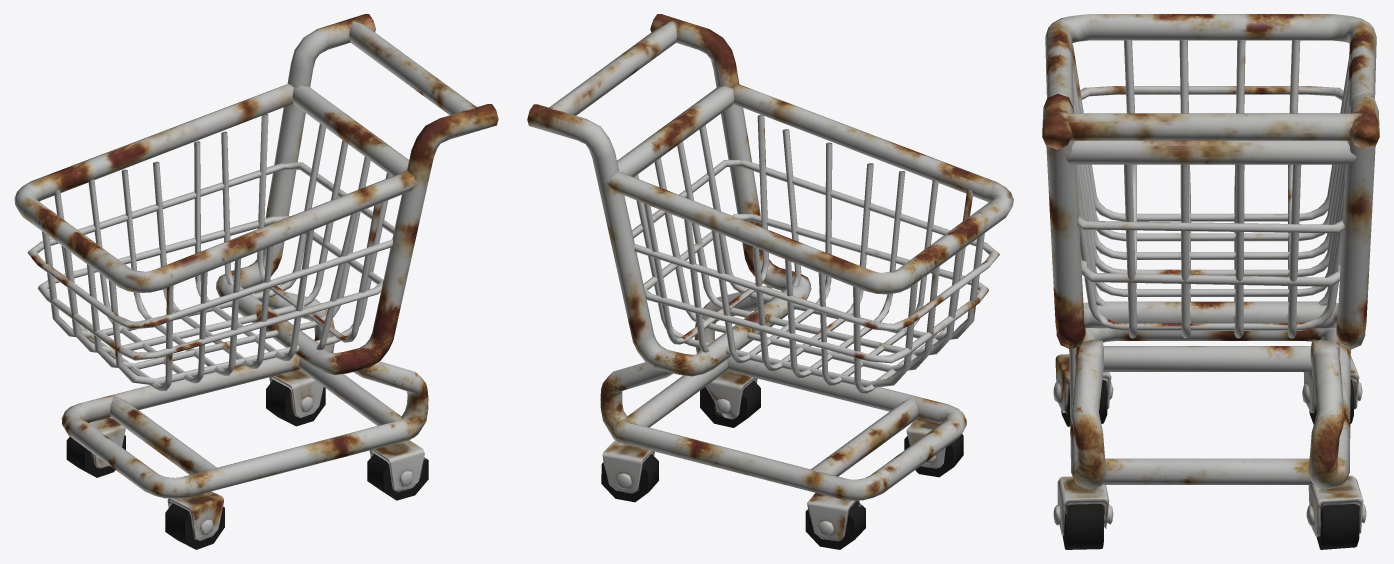
3 views of the same model, side by side, from view 1: azimuth 30°, elevation 25°; view 2: azimuth 150°, elevation 25°; view 3: azimuth 270°, elevation 25° (orthographic). The views are drawn at different scales.
Parts seen in each view (by area): view 1: tripo_node_fadcac13-e941-4ede-9f16-ff9140ffdbbb; view 2: tripo_node_fadcac13-e941-4ede-9f16-ff9140ffdbbb; view 3: tripo_node_fadcac13-e941-4ede-9f16-ff9140ffdbbb.
Boxes of the visible parts, x1,y1,x2,y2 form: tripo_node_fadcac13-e941-4ede-9f16-ff9140ffdbbb: (14, 14, 498, 549); tripo_node_fadcac13-e941-4ede-9f16-ff9140ffdbbb: (527, 14, 1013, 549); tripo_node_fadcac13-e941-4ede-9f16-ff9140ffdbbb: (1042, 14, 1379, 549).
Bounding box in the file's own units: 0.998 × 0.9863 × 0.6387.
1 material, 1 textured.
